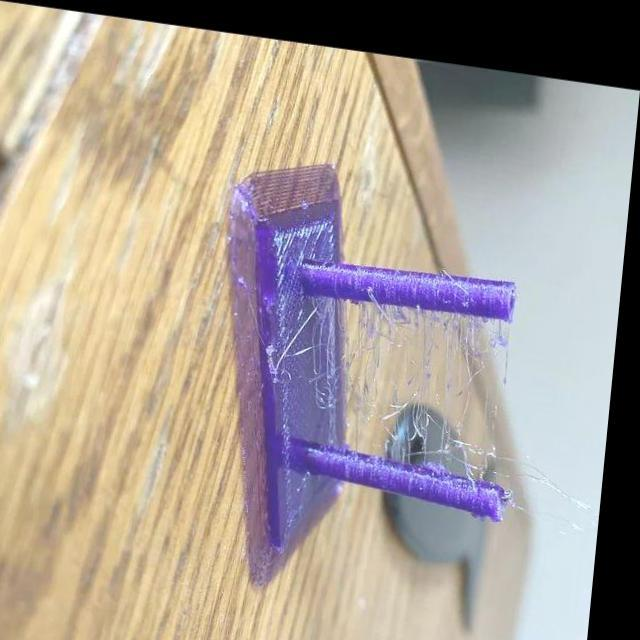stringing: (366, 284, 517, 368), (387, 385, 494, 460)
